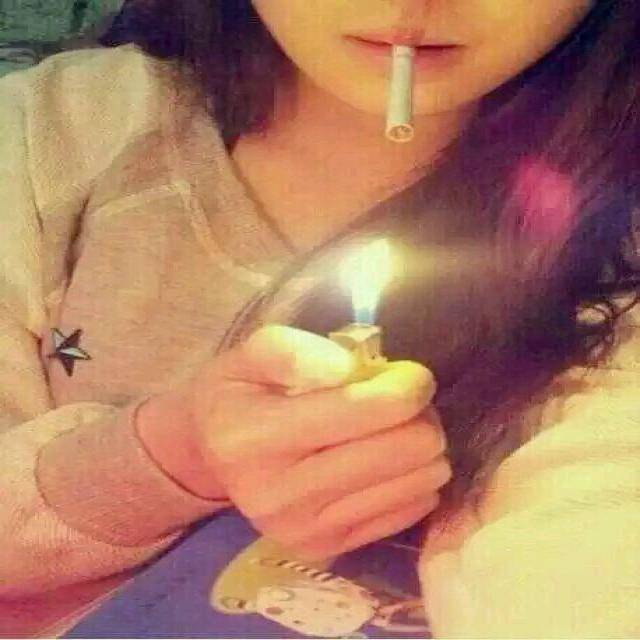smoking: (372, 38, 432, 147)
